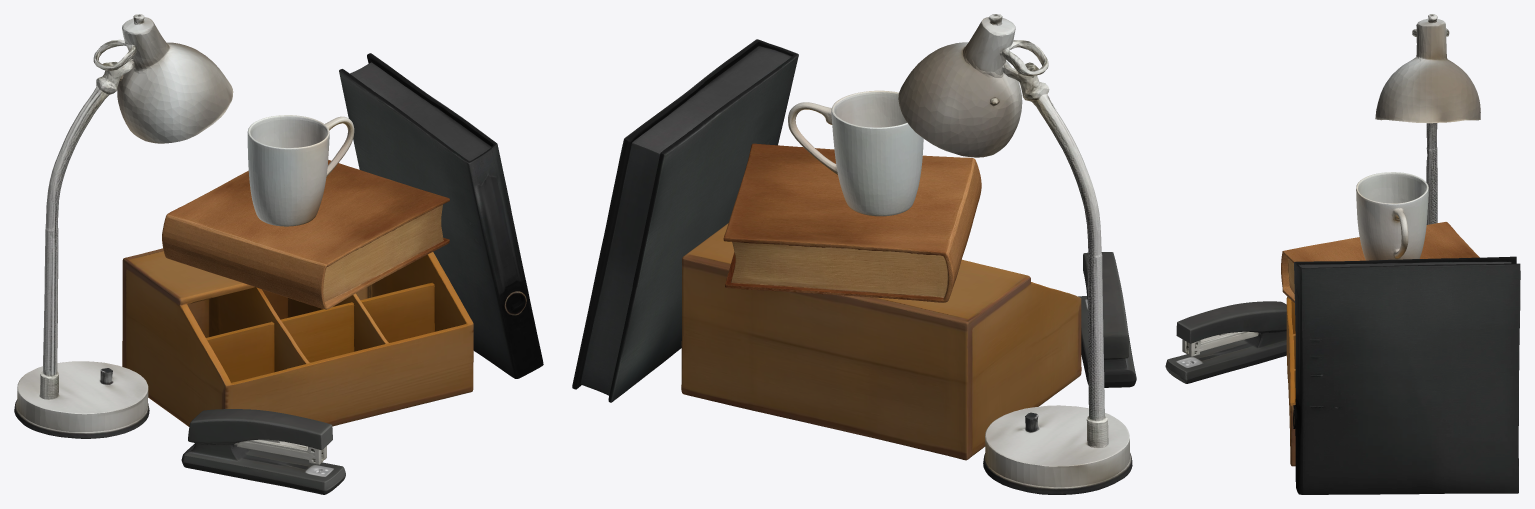
Rendered from phi-scene.glb.
The picture shows the model from 3 angles, left to right: view 1: azimuth 30°, elevation 25°; view 2: azimuth 150°, elevation 25°; view 3: azimuth 270°, elevation 25°; orthographic projection. The views are drawn at different scales.
Visible parts, largest first — view 1: object_05, object_02, object_03, object_04, object_01, object_00; view 2: object_05, object_02, object_04, object_03, object_00, object_01; view 3: object_02, object_04, object_01, object_00, object_03, object_05.
Part boxes in pixels (x1,y1,x2,y2): object_05: (122,248,473,426); object_02: (339,53,543,378); object_03: (162,160,449,309); object_04: (14,14,233,438); object_01: (181,409,345,494); object_00: (247,115,354,226); object_05: (681,223,1081,460); object_02: (572,39,798,402); object_04: (898,14,1132,494); object_03: (723,143,981,302); object_00: (788,90,923,216); object_01: (1078,252,1136,387); object_02: (1293,256,1520,494); object_04: (1375,14,1480,224); object_01: (1165,301,1286,383); object_00: (1356,172,1428,260); object_03: (1281,222,1479,302); object_05: (1286,297,1295,466).
Bounding box in the file's own units: 1.1 × 0.9014 × 0.8462.
6 materials, 6 textured.
